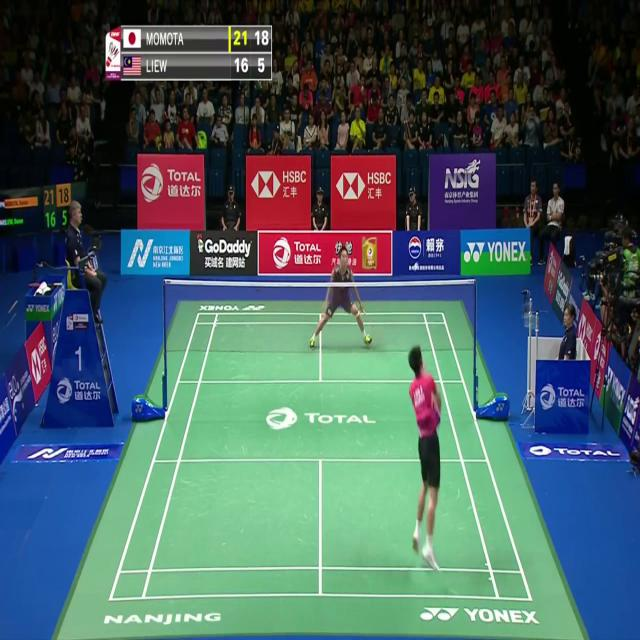Shuttlecock: (413, 259, 419, 271)
